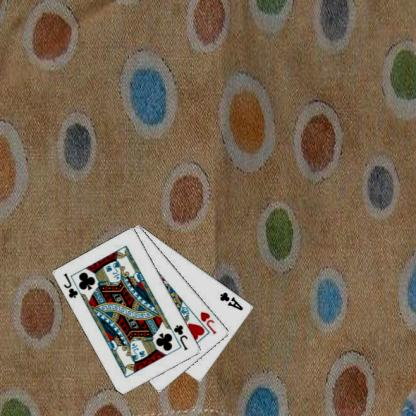AC: (218, 290, 245, 312)
JC: (61, 270, 80, 300), (171, 322, 189, 351)
JH: (198, 309, 218, 336)
